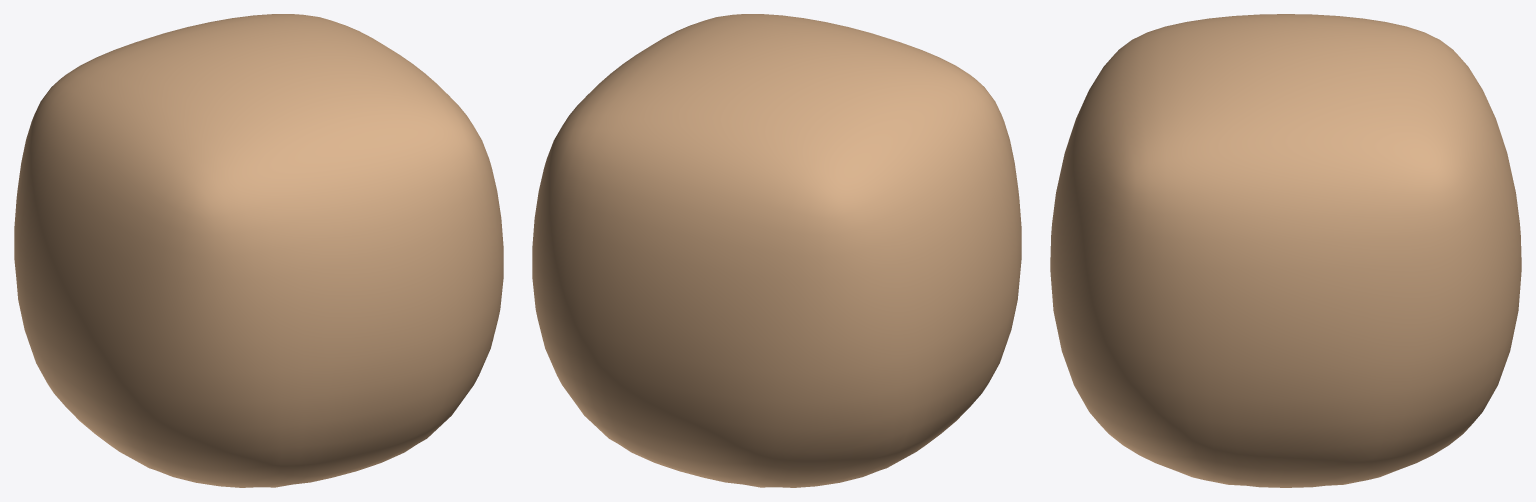
File: Pouf2_2.fbx
The picture shows the model from 3 angles, left to right: view 1: azimuth 30°, elevation 25°; view 2: azimuth 150°, elevation 25°; view 3: azimuth 270°, elevation 25°; orthographic projection.
Parts seen in each view (by area): view 1: pCube2347; view 2: pCube2347; view 3: pCube2347.
Boxes of the visible parts, x1,y1,x2,y2 form: pCube2347: (14, 14, 503, 487); pCube2347: (532, 14, 1021, 487); pCube2347: (1050, 14, 1521, 487).
Size of the model in its own units: 32.68 by 31.09 by 32.67.
